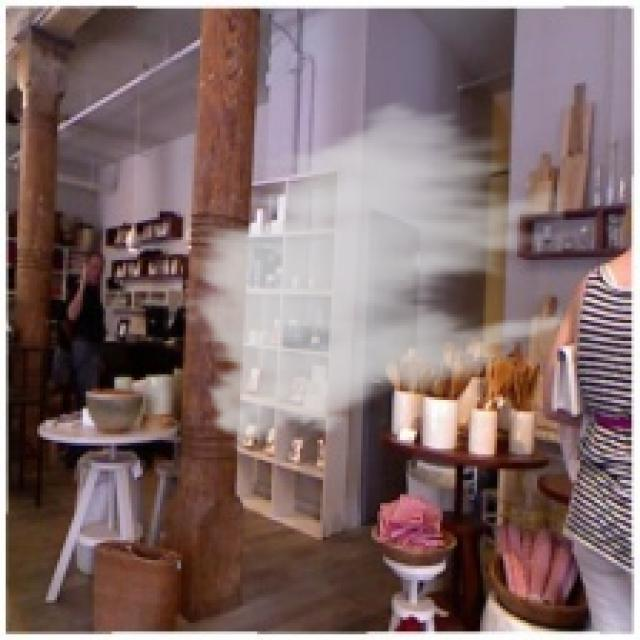Smoke: (177, 91, 566, 460)
